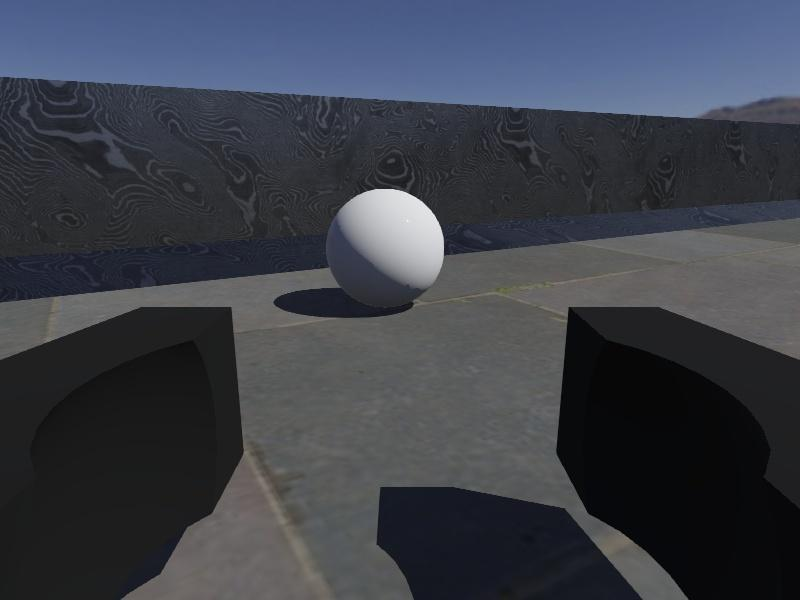white ball: (325, 187, 445, 309)
